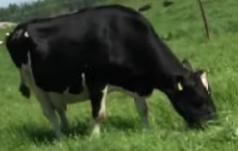cow: (9, 7, 218, 139)
